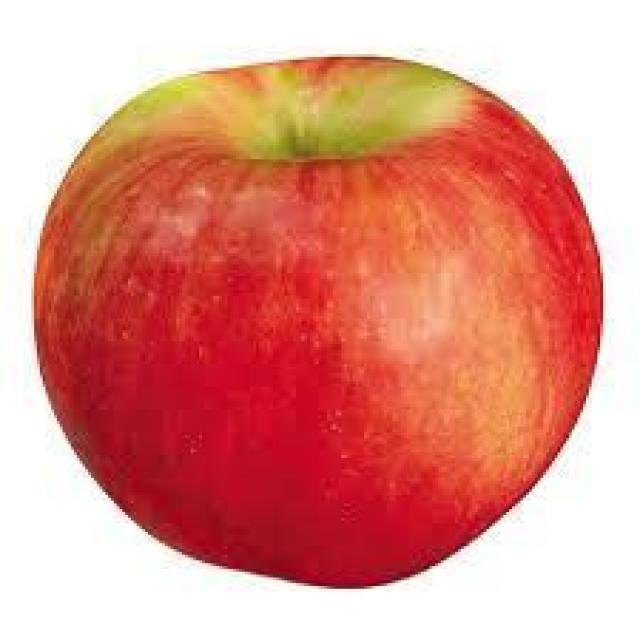maca: (28, 51, 603, 589)
